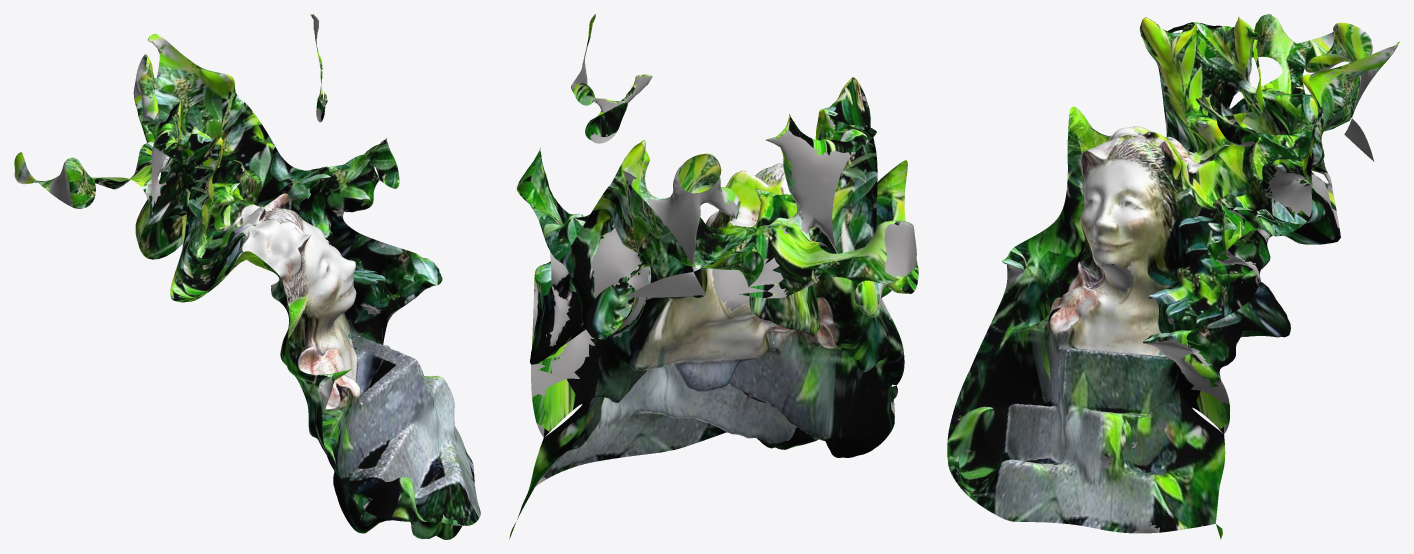
3 renders of one model, left to right at view 1: azimuth 30°, elevation 25°; view 2: azimuth 150°, elevation 25°; view 3: azimuth 270°, elevation 25°, orthographic. The views are drawn at different scales.
Visible parts, largest first — view 1: groteKop; view 2: groteKop; view 3: groteKop.
Boxes of the visible parts, box(x1,y1,x2,y2) form: groteKop: box(14, 14, 480, 539); groteKop: box(509, 14, 918, 539); groteKop: box(947, 14, 1399, 539).
Size of the model in its own units: 25.25 by 29.59 by 26.47.
1 material, 1 textured.
